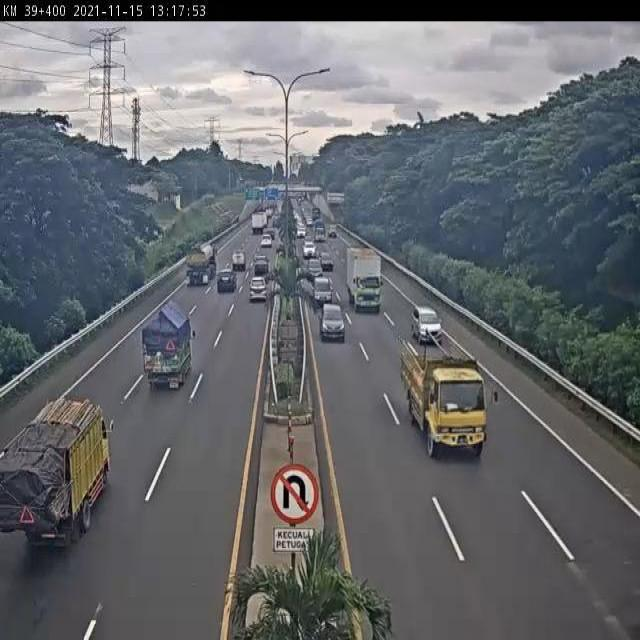car: (416, 308, 440, 339), (323, 306, 345, 338), (247, 275, 268, 304), (216, 266, 237, 294), (312, 279, 332, 304), (249, 262, 269, 286), (230, 250, 247, 270), (307, 259, 323, 280)
truck-m-: (2, 396, 114, 540), (399, 348, 490, 463), (141, 297, 194, 387), (345, 249, 382, 312)
truck-xl-: (186, 239, 217, 285)
